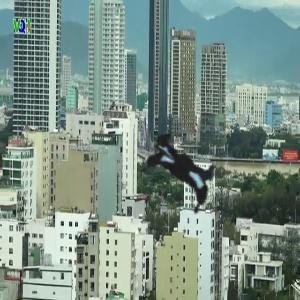drone: (62, 50, 298, 286)
